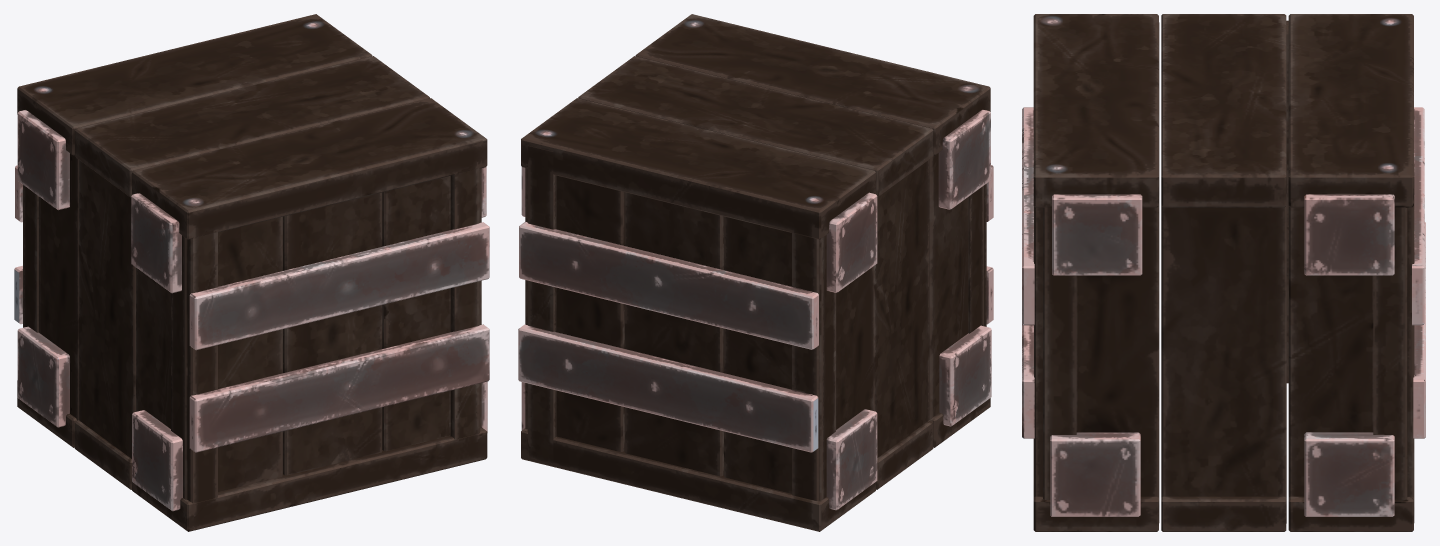
Rendered from P_Box2_Destroy.gltf.
The picture shows the model from 3 angles, left to right: view 1: azimuth 30°, elevation 25°; view 2: azimuth 150°, elevation 25°; view 3: azimuth 270°, elevation 25°; orthographic projection. The views are drawn at different scales.
Parts seen in each view (by area): view 1: TapaUp.001, TapaUp.002, TapaUp, MetalF.001, MetalF, TablonesL.001, TablonesF.002, TablonesF.001, TapaDown.002, TablonesF, TablonesL.002, TablonesL (+8 smaller); view 2: TapaUp, TapaUp.002, TapaUp.001, MetalesB, MetalesB.001, TablonesB.001, TablonesL.001, TablonesB, TablonesB.002, TablonesL, TapaDown, TablonesL.002 (+8 smaller); view 3: TablonesR.002, TapaUp.002, TapaUp, TapaUp.001, TablonesR.001, TablonesR, MetalesR, MetalesR.001, TablonesB.002, MetalesR.002, MetalesR.003, TablonesF (+8 smaller).
Part boxes in pixels (x1,y1,x2,y2): TapaUp.001: (132,98,487,239); TapaUp.002: (74,56,429,197); TapaUp: (17,14,372,155); MetalF.001: (189,222,489,350); MetalF: (189,324,489,452); TablonesL.001: (78,160,135,458); TablonesF.002: (283,192,382,475); TablonesF.001: (171,216,282,499); TapaDown.002: (132,427,487,531); TablonesF: (382,168,481,451); TablonesL.002: (136,232,217,503); TablonesL: (38,153,78,420); TapaUp: (521,98,875,239); TapaUp.002: (578,56,933,197); TapaUp.001: (635,14,990,155); MetalesB: (518,324,818,452); MetalesB.001: (519,221,818,349); TablonesB.001: (624,192,723,476); TablonesL.001: (873,160,929,457); TablonesB: (724,216,835,500); TablonesB.002: (525,168,624,451); TablonesL: (792,233,873,500); TapaDown: (521,428,875,531); TablonesL.002: (929,153,986,420); TablonesR.002: (1161,164,1286,523); TapaUp.002: (1161,14,1286,207); TapaUp: (1288,14,1413,207); TapaUp.001: (1033,14,1158,207); TablonesR.001: (1034,164,1159,522); TablonesR: (1289,164,1414,522); MetalesR: (1304,432,1394,516); MetalesR.001: (1050,432,1140,516); TablonesB.002: (1373,207,1407,499); MetalesR.002: (1304,194,1394,275); MetalesR.003: (1052,194,1142,275); TablonesF: (1043,207,1076,499).
Bounding box in the file's own units: 1.03 × 1 × 1.03.
1 material, 1 textured.
